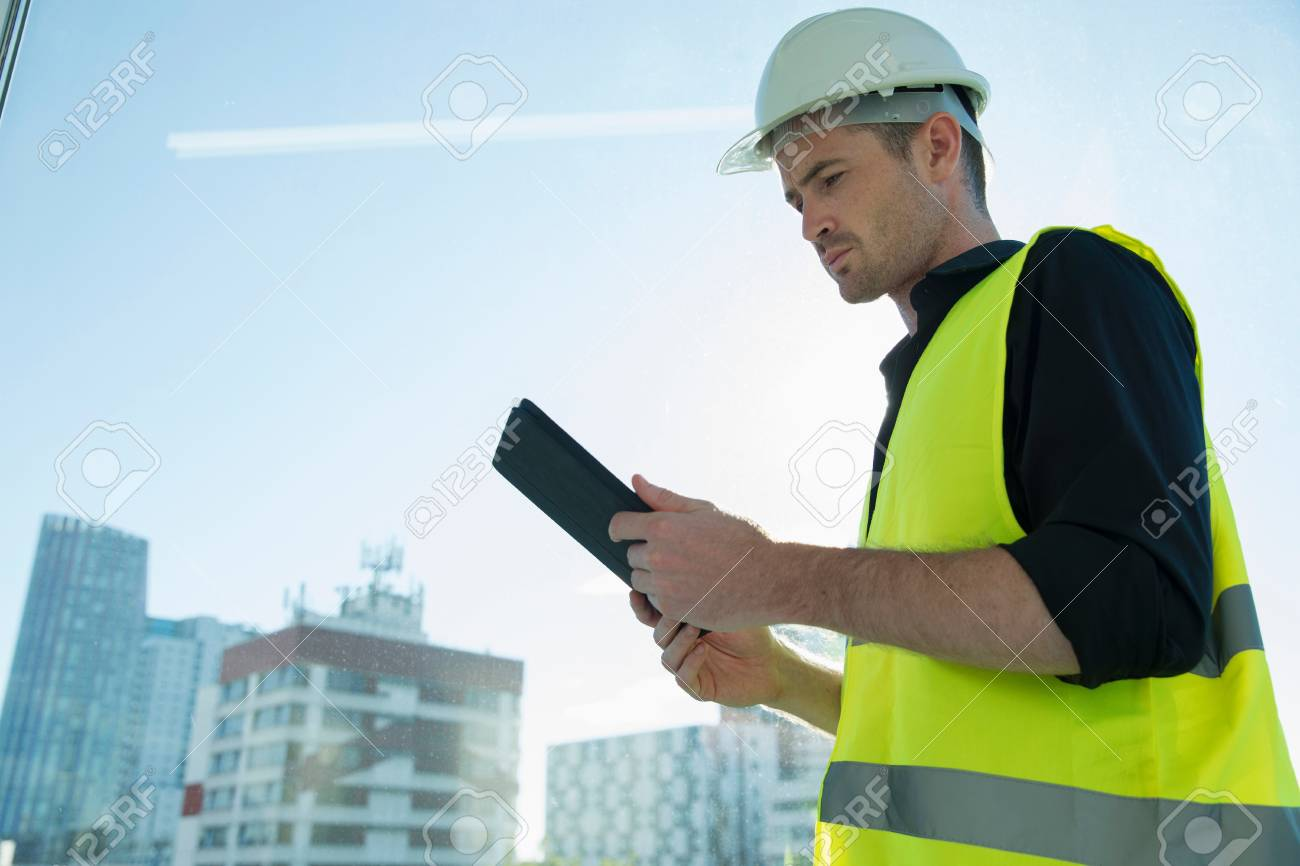Person_wearing_helmet: (728, 1, 1008, 216)
